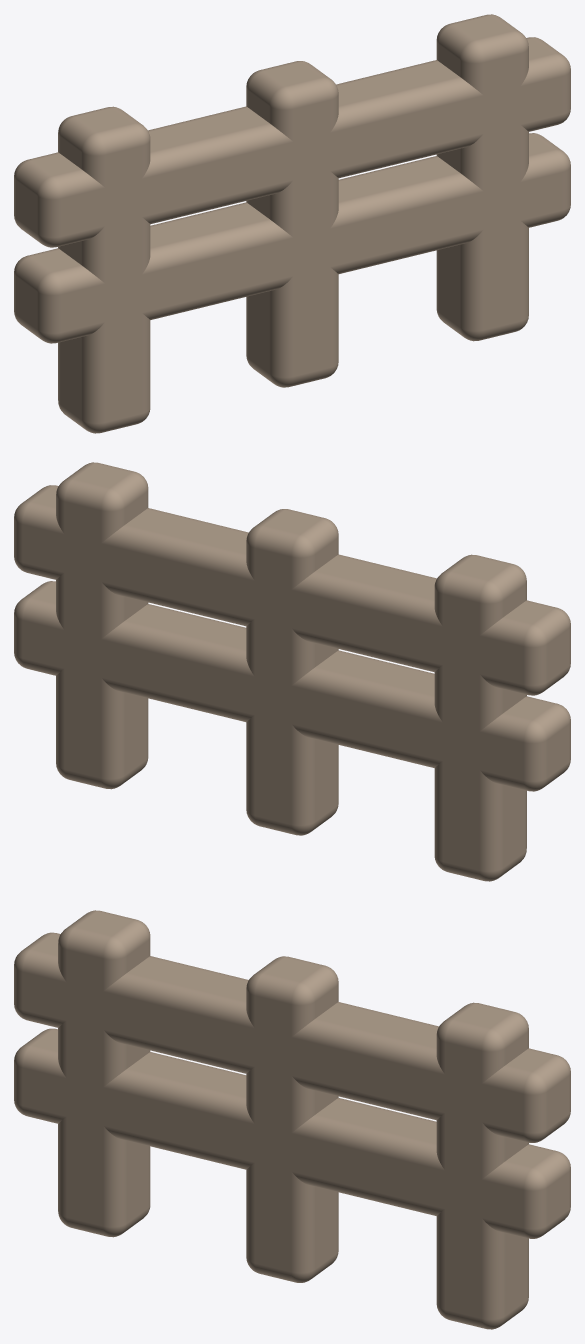
Rendered from fence.gltf.
The picture shows the model from 3 angles, top to bottom: view 1: azimuth 30°, elevation 25°; view 2: azimuth 150°, elevation 25°; view 3: azimuth 330°, elevation 25°; orthographic projection.
Parts seen in each view (by area): view 1: Cube 6 (×2), Cube 5, Cube 2, Cube, Cube 3, Cube 4; view 2: Cube 6 (×2), Cube, Cube 5, Cube 2, Cube 3, Cube 4; view 3: Cube 6 (×2), Cube 4, Cube 2, Cube 3, Cube, Cube 5.
Part boxes in pixels (box(x1,y1,x2,y2)): Cube 6 (×2): box(14, 133, 570, 343); Cube 5: box(14, 106, 297, 247); Cube 2: box(246, 61, 338, 387); Cube: box(58, 106, 150, 433); Cube 3: box(436, 14, 528, 341); Cube 4: box(325, 37, 570, 178); Cube 6 (×2): box(14, 581, 570, 791); Cube: box(434, 554, 526, 881); Cube 5: box(287, 554, 570, 695); Cube 2: box(246, 509, 338, 835); Cube 3: box(56, 462, 148, 789); Cube 4: box(14, 485, 259, 626); Cube 6 (×2): box(14, 1028, 570, 1238); Cube 4: box(287, 1002, 570, 1142); Cube 2: box(246, 956, 338, 1282); Cube 3: box(436, 1002, 528, 1329); Cube: box(58, 910, 150, 1237); Cube 5: box(14, 932, 259, 1073).
Bounding box in the file's own units: 2.78 × 1.5 × 0.35.
